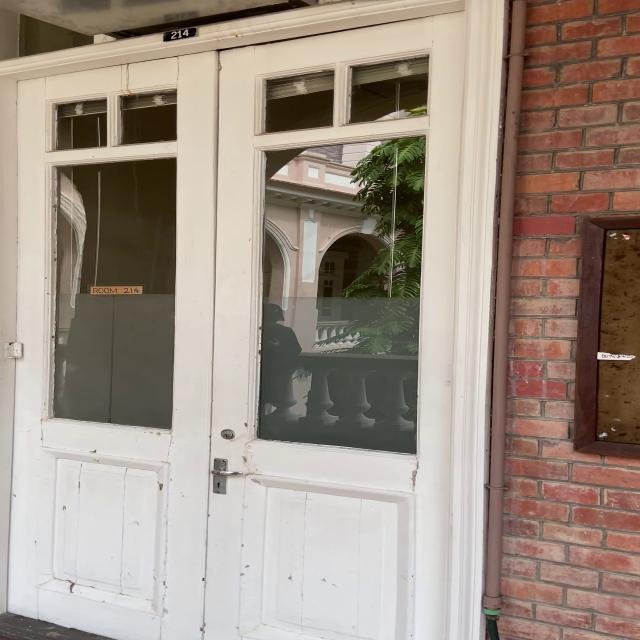room214: (162, 26, 198, 42)
room214Window: (85, 283, 149, 296)
